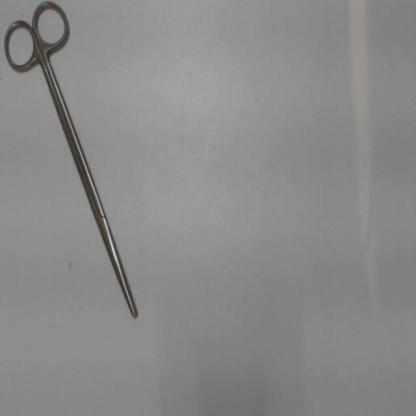9 Metzenbaum Scissors: (1, 1, 142, 325)
